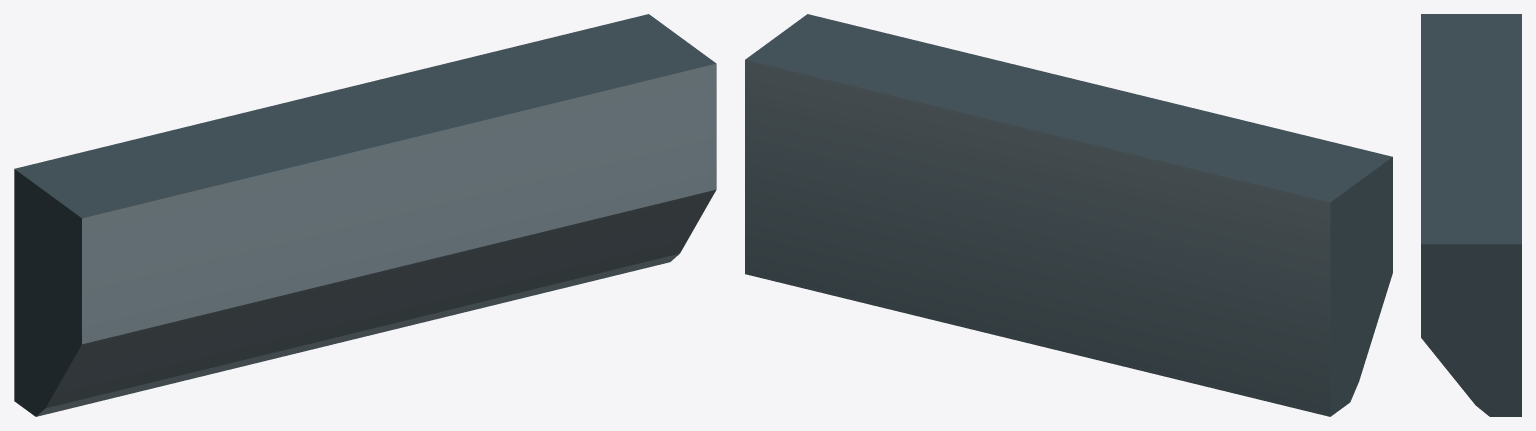
File: Wall_type_C_006.fbx
The picture shows the model from 3 angles, left to right: view 1: azimuth 30°, elevation 25°; view 2: azimuth 150°, elevation 25°; view 3: azimuth 270°, elevation 25°; orthographic projection. The views are drawn at different scales.
Parts seen in each view (by area): view 1: Wall_type_C_006; view 2: Wall_type_C_006; view 3: Wall_type_C_006.
Part boxes in pixels (x1,y1,x2,y2): Wall_type_C_006: (14, 14, 716, 416); Wall_type_C_006: (745, 14, 1392, 416); Wall_type_C_006: (1421, 14, 1521, 416).
Bounding box in the file's own units: 200 × 37 × 70.
